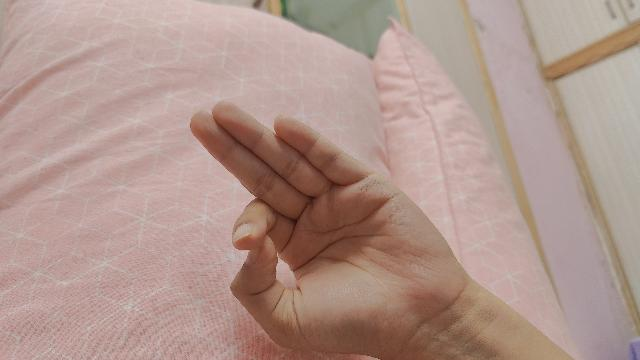aral: (190, 102, 576, 360)
